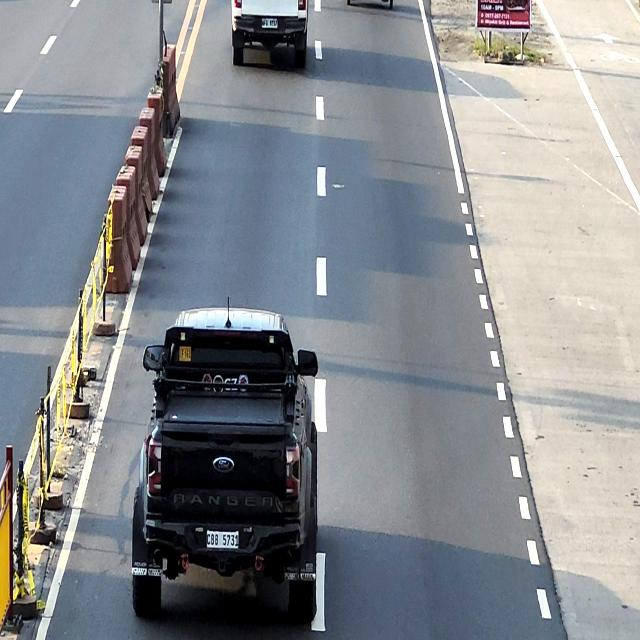Car: (132, 305, 319, 622), (231, 0, 309, 66)
License-Plate: (206, 530, 238, 549), (261, 17, 278, 29)
